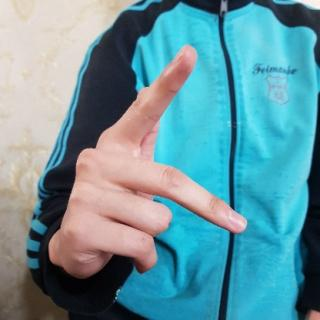DHAA: (50, 39, 253, 297)
